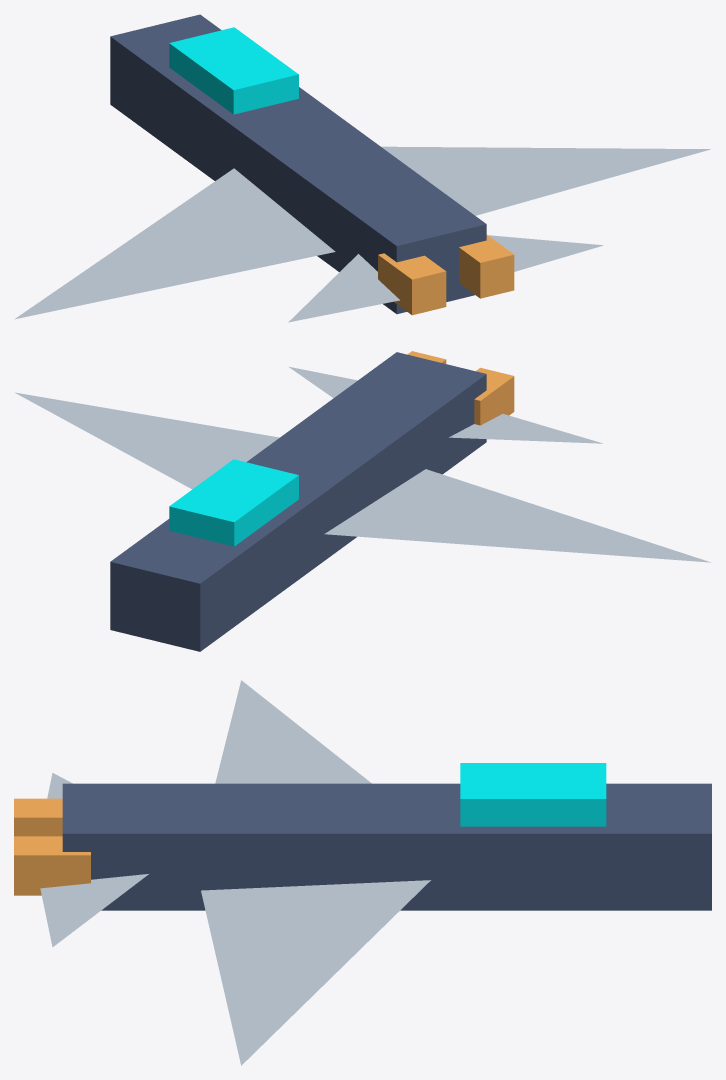
File: support_jet.glb
The picture shows the model from 3 angles, top to bottom: view 1: azimuth 30°, elevation 25°; view 2: azimuth 150°, elevation 25°; view 3: azimuth 270°, elevation 25°; orthographic projection. The views are drawn at different scales.
Parts seen in each view (by area): view 1: support_jet; view 2: support_jet; view 3: support_jet.
Boxes of the visible parts, box(x1,y1,x2,y2) form: support_jet: box(14, 14, 710, 322); support_jet: box(15, 351, 710, 651); support_jet: box(14, 680, 711, 1065).
Bounding box in the file's own units: 4.5 × 0.57 × 3.44.
